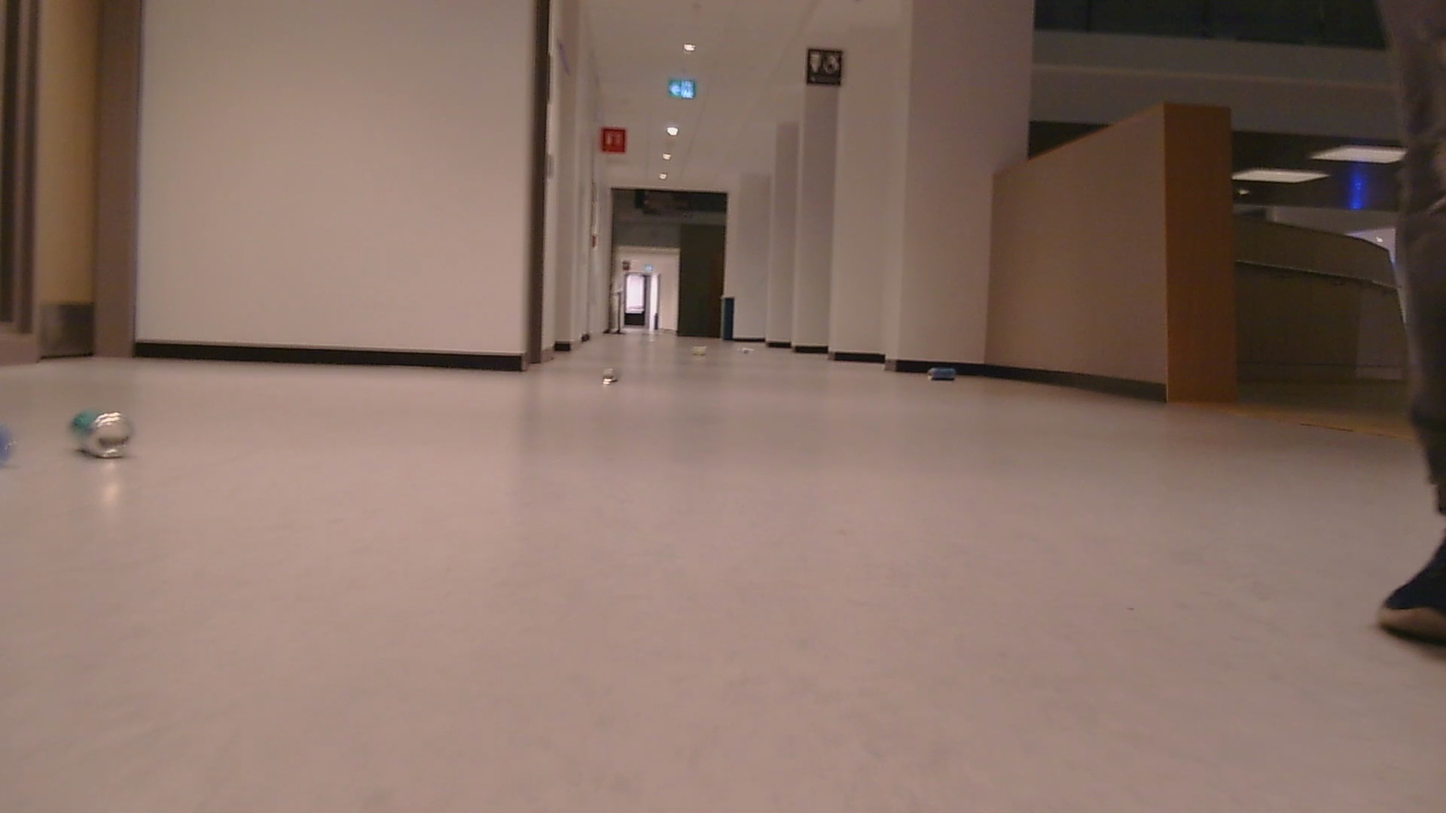carton: (63, 390, 140, 474), (923, 351, 973, 388), (581, 358, 614, 393), (725, 331, 757, 359), (694, 339, 713, 368)
